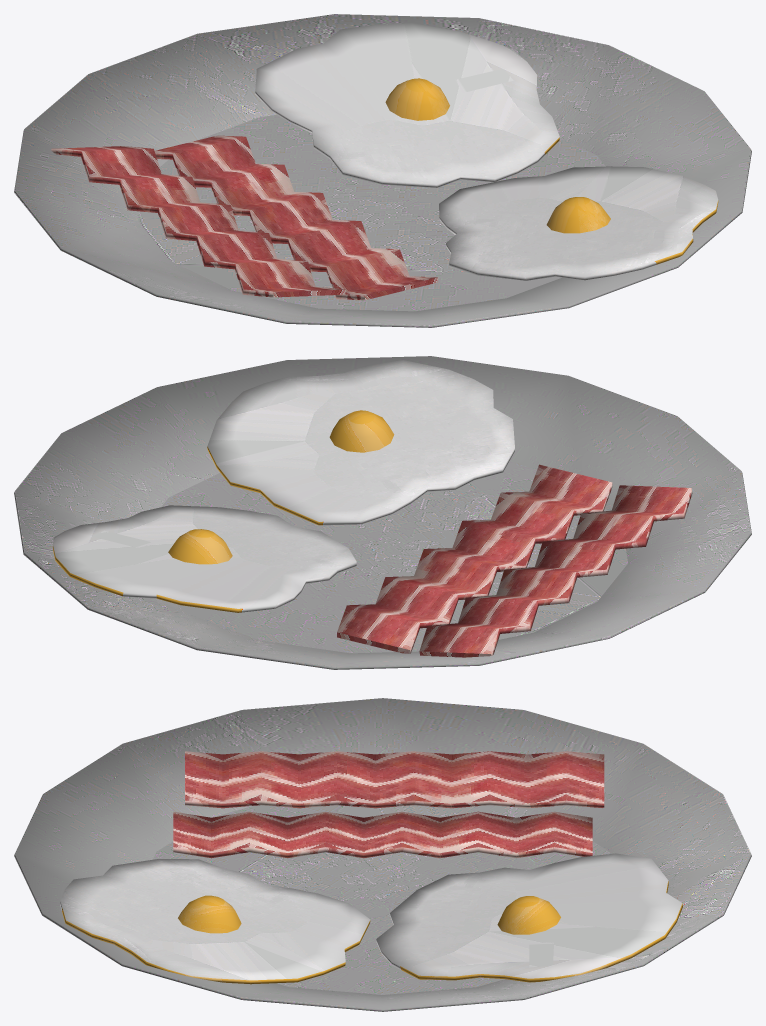
Rendered from Plato4.fbx.
3 views of the same model, one above another, from view 1: azimuth 30°, elevation 25°; view 2: azimuth 150°, elevation 25°; view 3: azimuth 270°, elevation 25° (orthographic).
Visible parts, largest first — view 1: SM_BaconAndEggs; view 2: SM_BaconAndEggs; view 3: SM_BaconAndEggs.
Part boxes in pixels (x1,y1,x2,y2): SM_BaconAndEggs: (14, 14, 751, 327); SM_BaconAndEggs: (14, 356, 751, 669); SM_BaconAndEggs: (14, 698, 751, 1011).
Size of the model in its own units: 169 by 11.98 by 169.
Materials: 3 (3 with a texture image).
